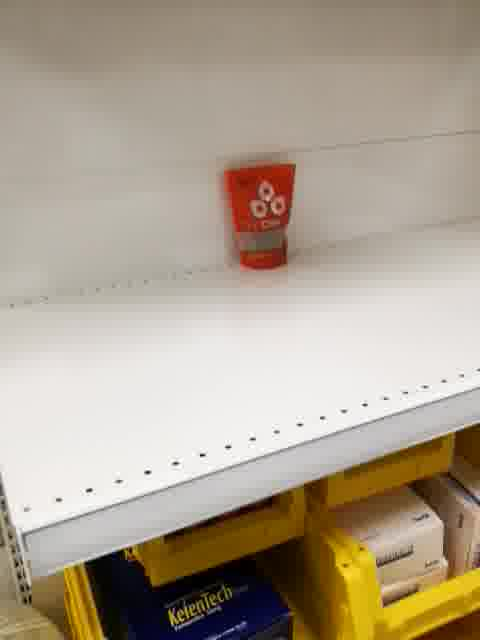whitechia: (219, 160, 297, 273)
